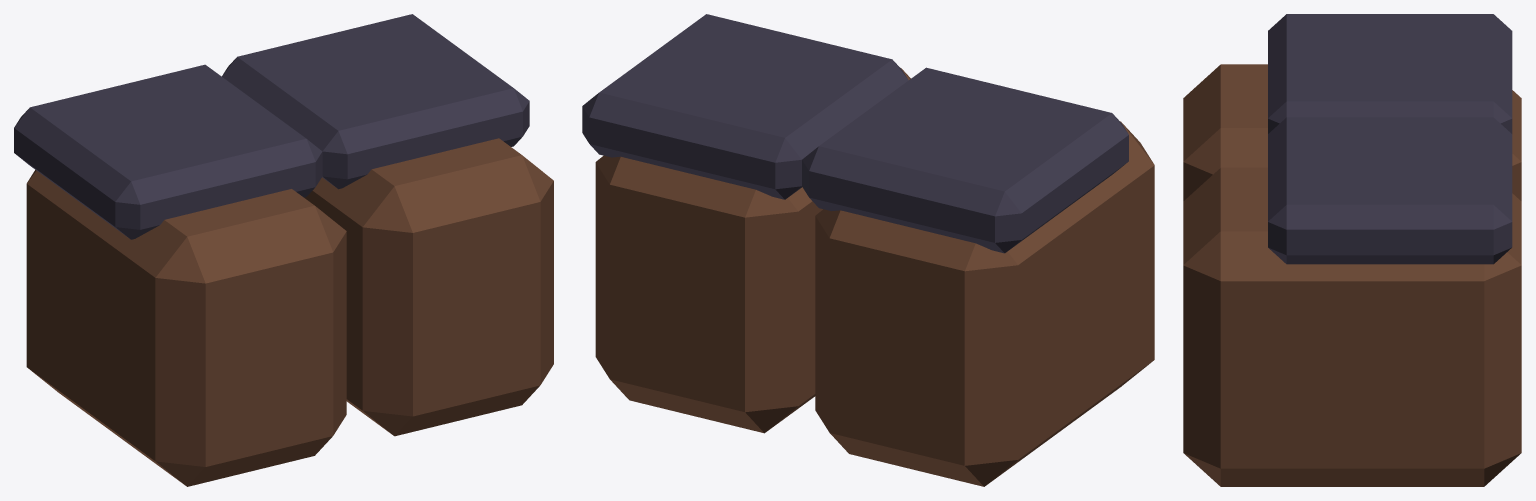
Rendered from LeatherBoots.fbx.
3 renders of one model, left to right at view 1: azimuth 30°, elevation 25°; view 2: azimuth 150°, elevation 25°; view 3: azimuth 270°, elevation 25°, orthographic. The views are drawn at different scales.
Parts seen in each view (by area): view 1: LeatherBoots__leg_R, LeatherBoots__leg_L; view 2: LeatherBoots__leg_R, LeatherBoots__leg_L; view 3: LeatherBoots__leg_L, LeatherBoots__leg_R.
Boxes of the visible parts, bbox=[...] form: LeatherBoots__leg_R: bbox=[14, 64, 346, 486]; LeatherBoots__leg_L: bbox=[222, 14, 553, 436]; LeatherBoots__leg_R: bbox=[802, 67, 1154, 486]; LeatherBoots__leg_L: bbox=[582, 14, 910, 433]; LeatherBoots__leg_L: bbox=[1183, 117, 1521, 486]; LeatherBoots__leg_R: bbox=[1183, 14, 1521, 200].
Bounding box in the file's own units: 0.52 × 0.345 × 0.36.
